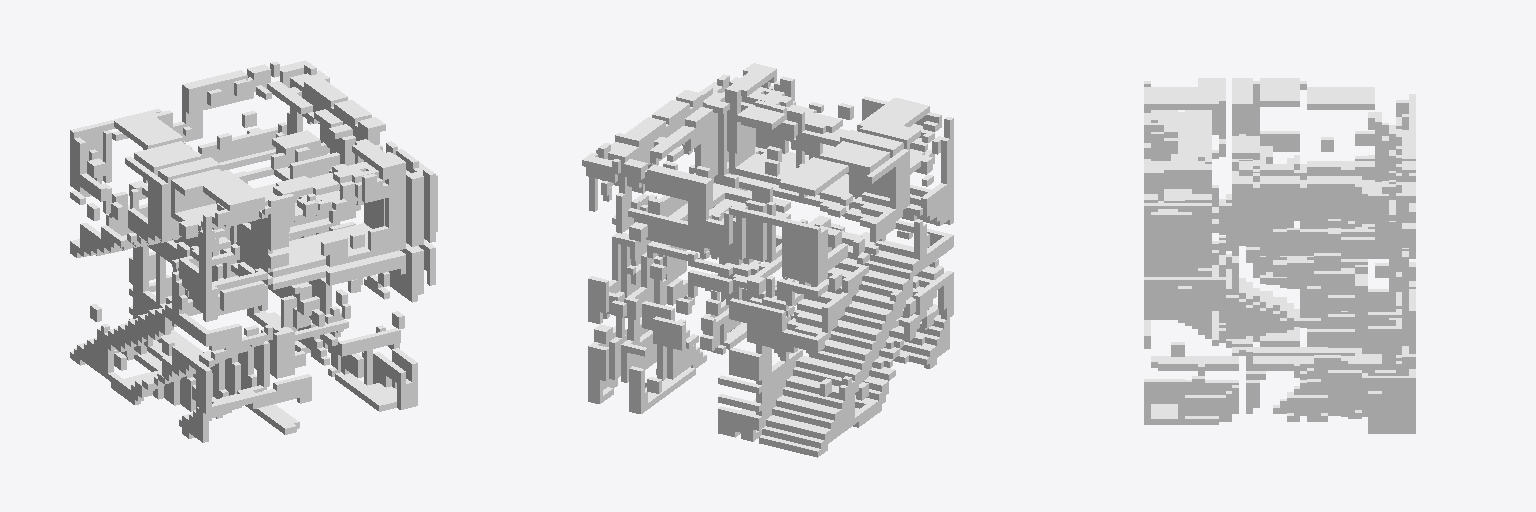
The model's file is building-1-a.obj.
The picture shows the model from 3 angles: view 1: azimuth 30°, elevation 25°; view 2: azimuth 150°, elevation 25°; view 3: azimuth 270°, elevation 25°; orthographic projection.
Visible parts, largest first — view 1: building-1-a; view 2: building-1-a; view 3: building-1-a.
Boxes of the visible parts, x1=… form: building-1-a: x1=70, y1=60, x2=437, y2=442; building-1-a: x1=582, y1=63, x2=953, y2=457; building-1-a: x1=1144, y1=78, x2=1415, y2=433.
Bounding box in the file's own units: 40 × 40 × 40.